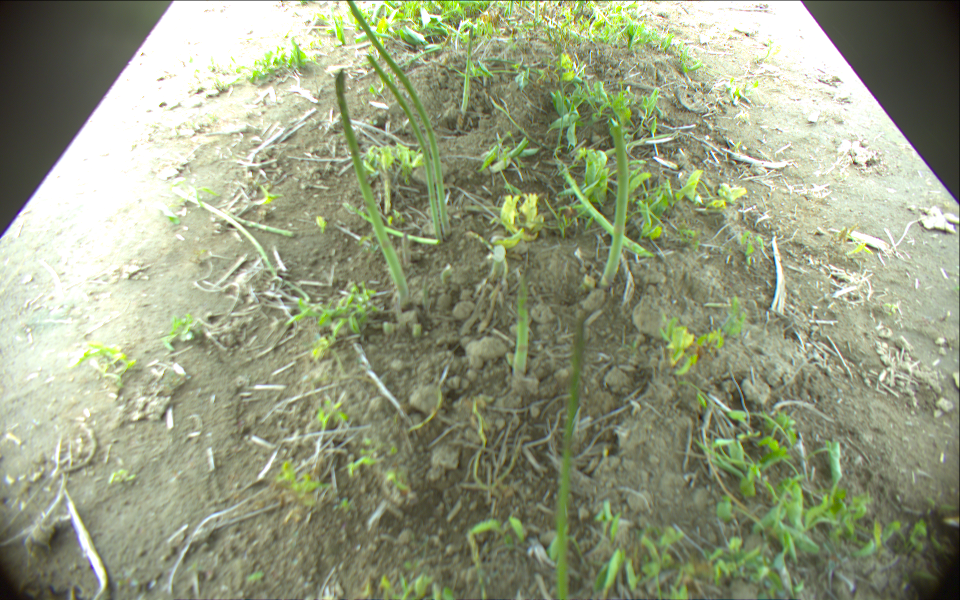aspa: (348, 1, 451, 235), (334, 68, 410, 301), (363, 50, 442, 239), (159, 177, 278, 280), (558, 160, 654, 258), (555, 316, 588, 600), (597, 116, 629, 287), (347, 204, 441, 245), (222, 208, 294, 238), (512, 271, 528, 378), (460, 24, 475, 113), (400, 230, 411, 266), (535, 1, 539, 22)
